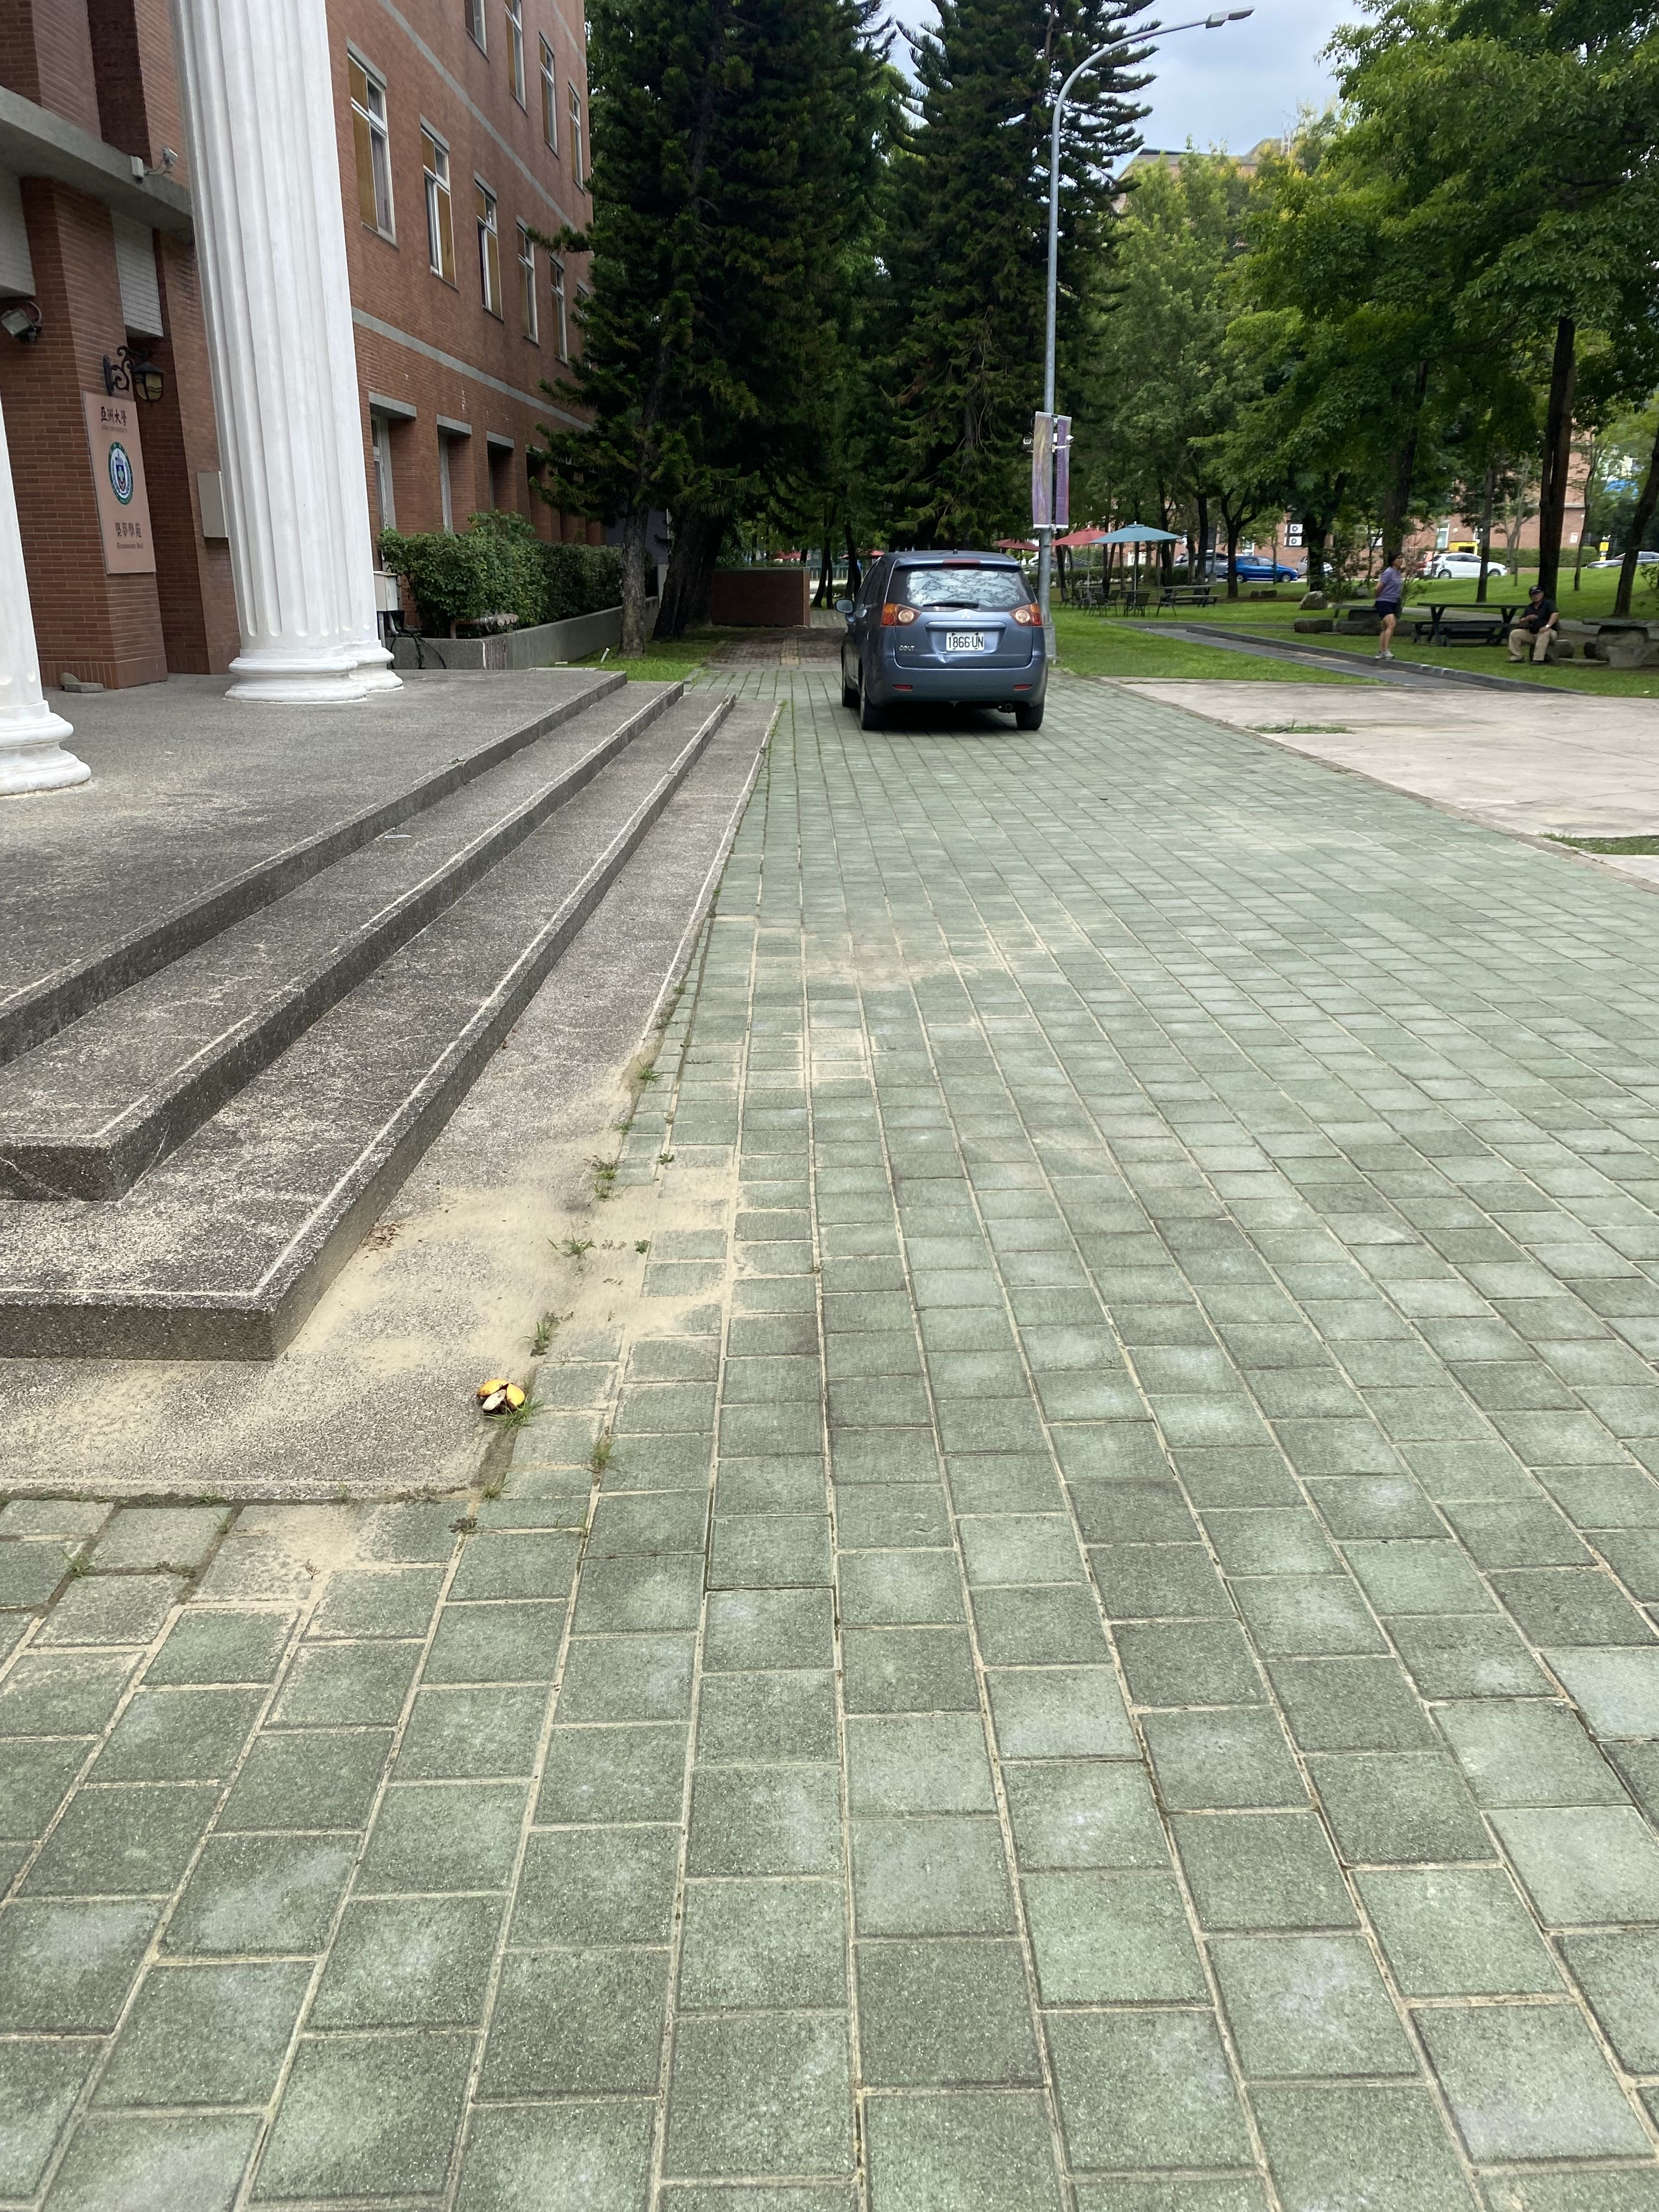sidewalk: (7, 636, 1659, 2212)
